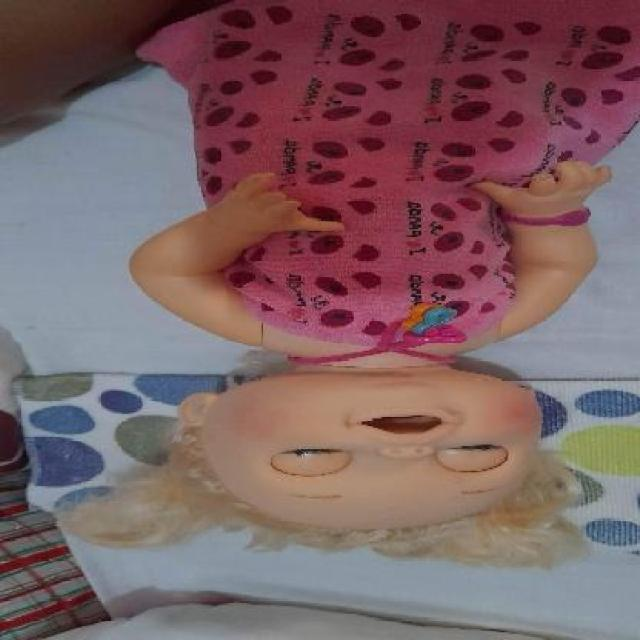non-dog: (51, 1, 638, 571)
